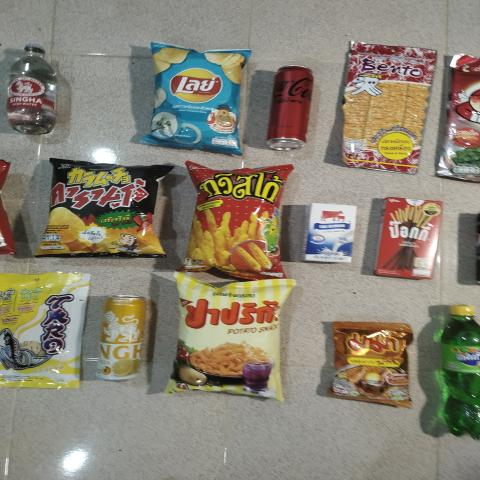bento_red: (329, 48, 433, 161)
coke_red: (261, 61, 314, 154)
fanta_green: (441, 301, 480, 440)
karamujo: (41, 159, 161, 257)
lay_blue: (154, 46, 242, 148)
mama: (325, 326, 415, 410)
paprika: (176, 278, 288, 404)
pokki: (383, 196, 438, 278)
singha_soda: (3, 42, 60, 138)
singha_yellow: (94, 289, 148, 389)
taro_yellow: (0, 273, 87, 386)
thai_denmark: (300, 200, 359, 265)
twisco: (183, 163, 283, 276)
